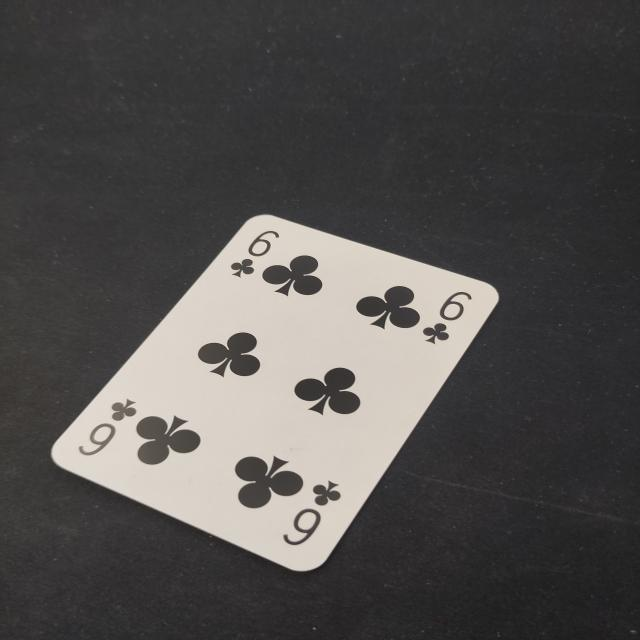6c: (276, 474, 348, 554), (66, 394, 145, 464), (418, 285, 477, 350), (222, 225, 286, 284)
